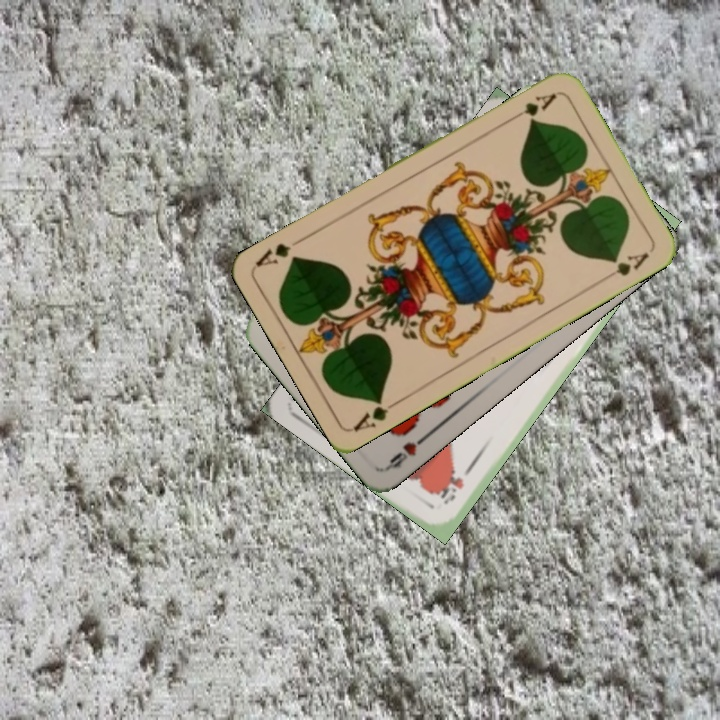GA: (350, 393, 403, 434), (505, 89, 559, 124)
H9: (383, 429, 433, 472)
HO: (437, 459, 477, 508)
